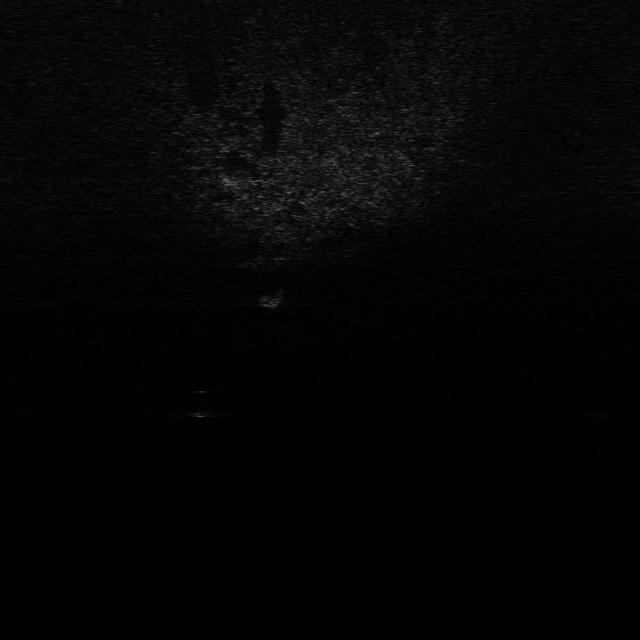ball: (180, 382, 222, 422)
cube: (252, 285, 284, 309)
